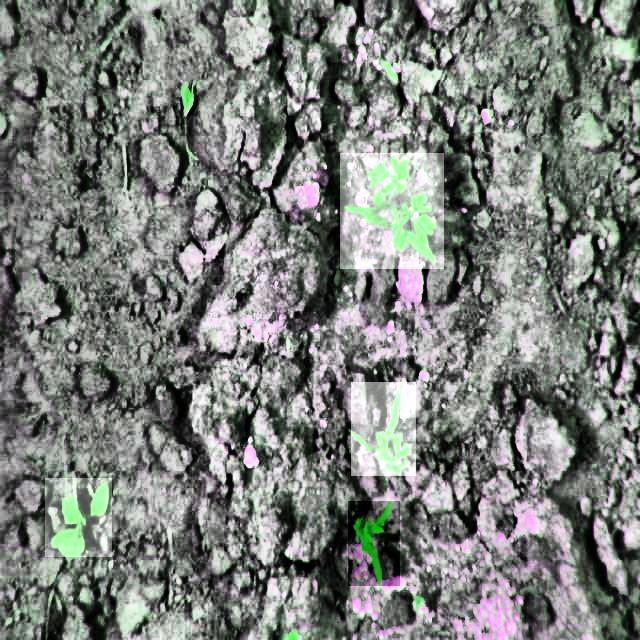Weeds: (45, 478, 112, 557)
undefined: (340, 153, 444, 269), (351, 382, 416, 476), (348, 501, 400, 586)
